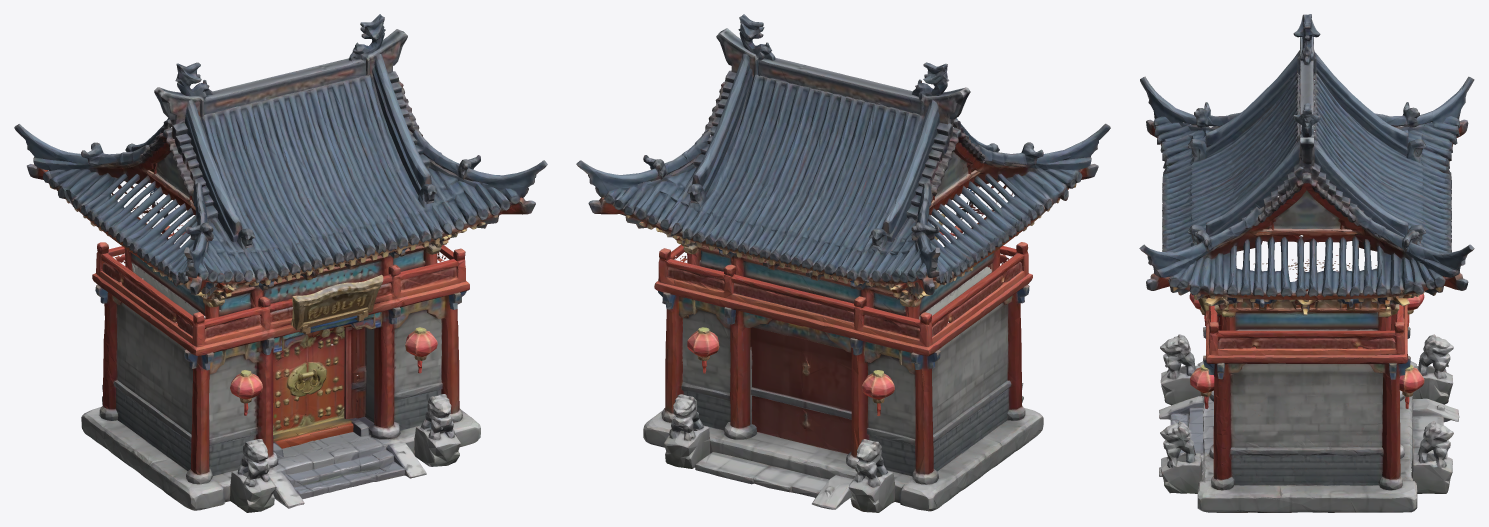
Rendered from refined.glb.
The picture shows the model from 3 angles, left to right: view 1: azimuth 30°, elevation 25°; view 2: azimuth 150°, elevation 25°; view 3: azimuth 270°, elevation 25°; orthographic projection. The views are drawn at different scales.
Visible parts, largest first — view 1: world; view 2: world; view 3: world.
Part boxes in pixels (<box>): world: <box>14,14,547,512</box>; world: <box>576,14,1110,512</box>; world: <box>1139,14,1474,512</box>.
Bounding box in the file's own units: 0.9629 × 1 × 0.7953.
Materials: 1 (1 with a texture image).
